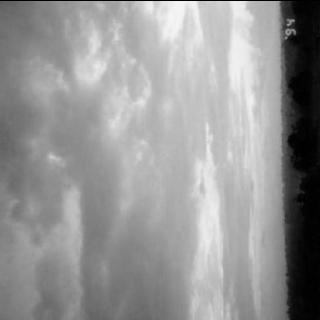Stratocumulus: (1, 0, 280, 320)
